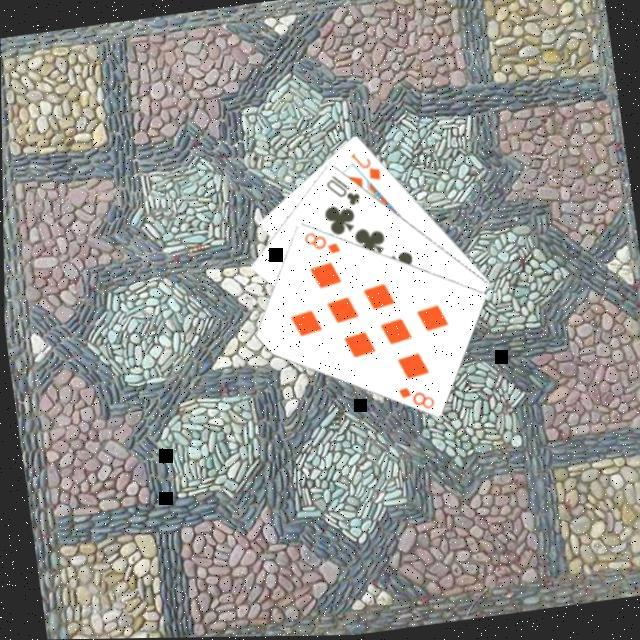10C: (320, 166, 364, 211)
8D: (393, 377, 437, 415), (300, 223, 343, 259)
JD: (346, 144, 384, 184)
